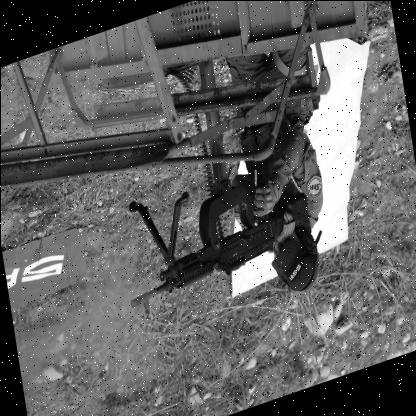rifle: (118, 170, 310, 318)
